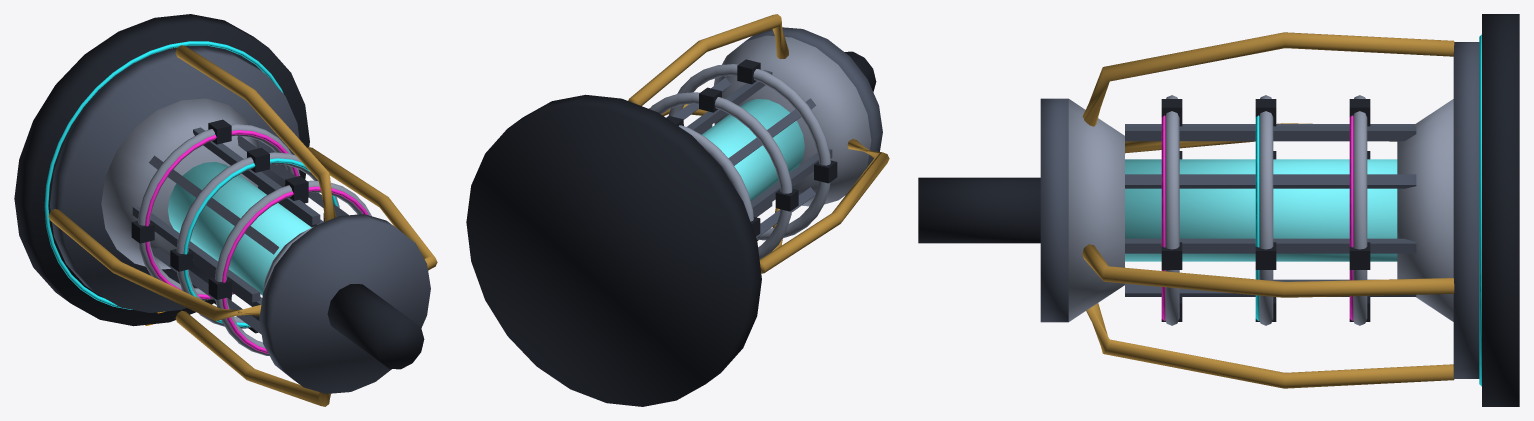
File: shooter-reactor.glb
3 renders of one model, left to right at view 1: azimuth 30°, elevation 25°; view 2: azimuth 150°, elevation 25°; view 3: azimuth 270°, elevation 25°, orthographic. The views are drawn at different scales.
Visible parts, largest first — view 1: Model Mesh, Spin+ Ring 0 Mesh, Spin+ Ring 2 Mesh, Spin- Ring 1 Mesh; view 2: Model Mesh, Spin+ Ring 2 Mesh, Spin- Ring 1 Mesh, Spin+ Ring 0 Mesh; view 3: Model Mesh, Spin- Ring 1 Mesh, Spin+ Ring 2 Mesh, Spin+ Ring 0 Mesh.
Part boxes in pixels (<box>): Model Mesh: <box>14,14,437,406</box>; Spin+ Ring 0 Mesh: <box>131,119,308,304</box>; Spin+ Ring 2 Mesh: <box>208,176,371,355</box>; Spin- Ring 1 Mesh: <box>170,148,339,333</box>; Model Mesh: <box>466,14,889,406</box>; Spin+ Ring 2 Mesh: <box>668,59,837,240</box>; Spin- Ring 1 Mesh: <box>649,87,798,259</box>; Spin+ Ring 0 Mesh: <box>666,116,760,236</box>; Model Mesh: <box>918,14,1519,406</box>; Spin- Ring 1 Mesh: <box>1255,95,1276,325</box>; Spin+ Ring 2 Mesh: <box>1161,95,1182,325</box>; Spin+ Ring 0 Mesh: <box>1349,95,1370,325</box>.
Size of the model in its own units: 4.2 by 4.22 by 6.4.
Materials: 2 (2 with a texture image).
